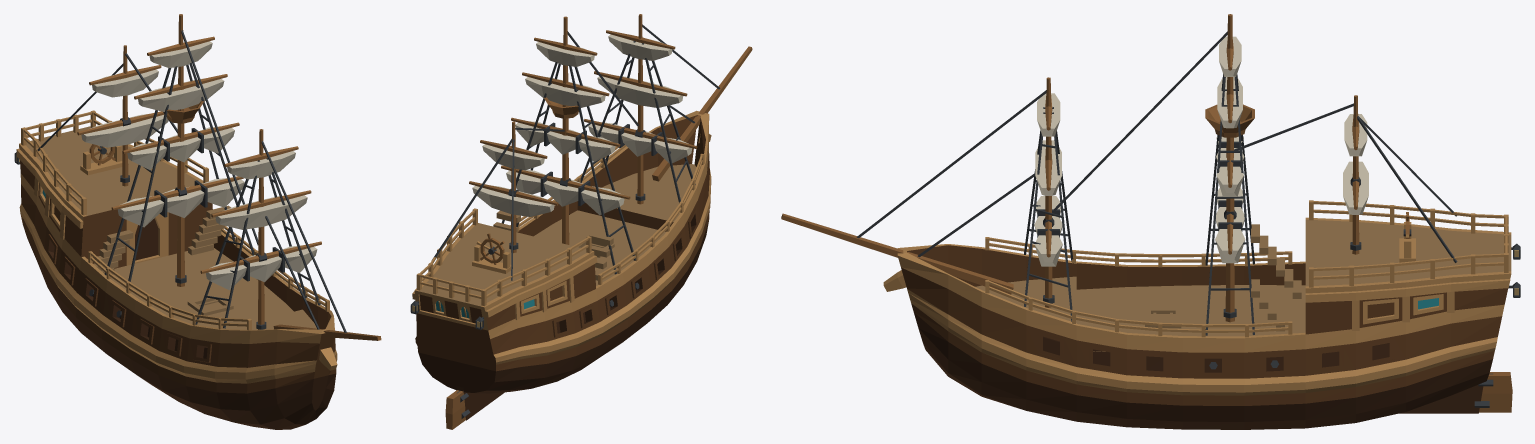
The model's file is galleon.glb.
3 renders of one model, left to right at view 1: azimuth 30°, elevation 25°; view 2: azimuth 150°, elevation 25°; view 3: azimuth 270°, elevation 25°, orthographic. The views are drawn at different scales.
Parts seen in each view (by area): view 1: hull, mast-main-mesh, mast-fore-mesh, mast-mizzen-mesh; view 2: hull, mast-main-mesh, mast-fore-mesh, mast-mizzen-mesh, rudder-mesh, wheel-mesh; view 3: hull, mast-main-mesh, mast-fore-mesh, mast-mizzen-mesh, rudder-mesh.
Boxes of the visible parts, <box> form: hull: <box>16,30,381,429</box>; mast-main-mesh: <box>111,14,244,286</box>; mast-fore-mesh: <box>200,129,321,329</box>; mast-mizzen-mesh: <box>77,45,168,186</box>; hull: <box>412,24,752,420</box>; mast-main-mesh: <box>501,16,630,244</box>; mast-fore-mesh: <box>584,14,697,204</box>; mast-mizzen-mesh: <box>469,121,558,253</box>; rudder-mesh: <box>445,390,470,429</box>; wheel-mesh: <box>476,233,504,264</box>; hull: <box>781,31,1511,429</box>; mast-main-mesh: <box>1205,14,1254,322</box>; mast-fore-mesh: <box>1034,77,1062,307</box>; mast-mizzen-mesh: <box>1343,95,1368,254</box>; rudder-mesh: <box>1474,372,1512,412</box>.
Size of the model in its own units: 7 by 15.8 by 26.48.
